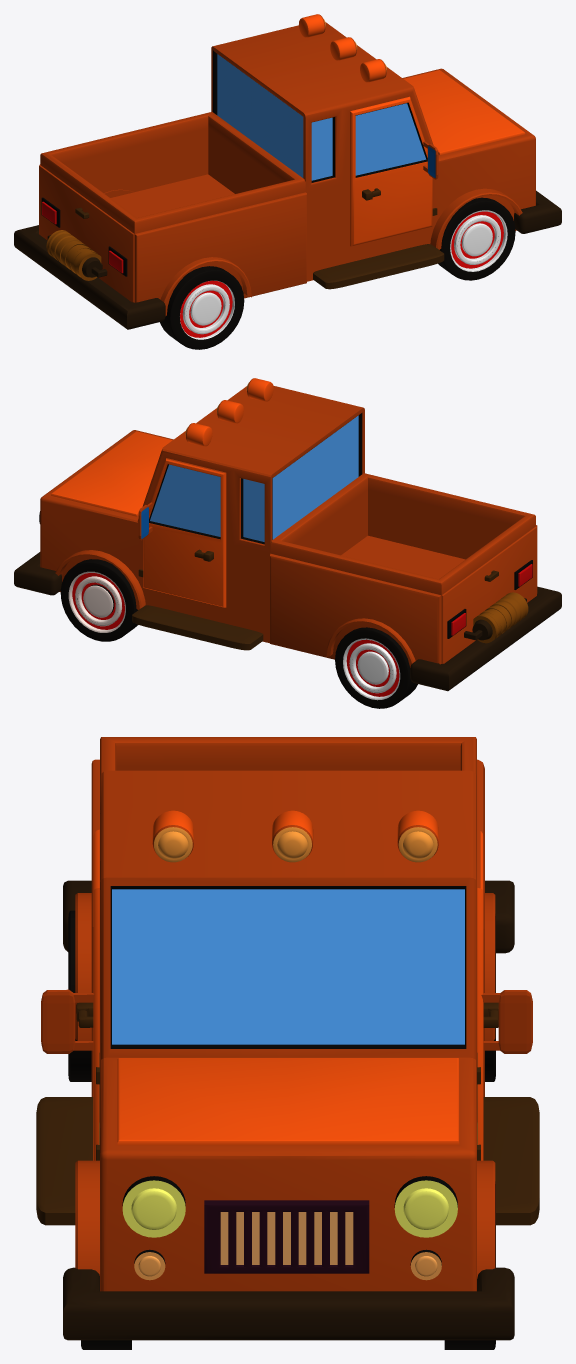
Rendered from Car.fbx.
3 renders of one model, top to bottom at view 1: azimuth 30°, elevation 25°; view 2: azimuth 150°, elevation 25°; view 3: azimuth 270°, elevation 25°, orthographic. The views are drawn at different scales.
Visible parts, largest first — view 1: Car body, Wheel3, wheel4; view 2: Car body, Wheel, Wheen2; view 3: Car body, Wheel3.
Boxes of the visible parts, x1,y1,x2,y2 form: Car body: (14,14,561,329); Wheel3: (160,266,244,349); wheel4: (438,197,515,280); Car body: (14,378,561,691); Wheel: (335,627,417,708); Wheen2: (60,559,137,641); Car body: (36,737,539,1340); Wheel3: (68,910,91,1081).
Bounding box in the file's own units: 1237 × 593 × 609.
